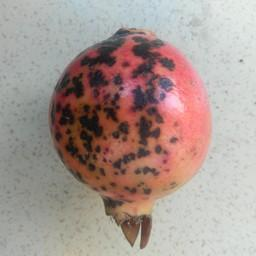Bad_pomegranate: (50, 12, 214, 248)
